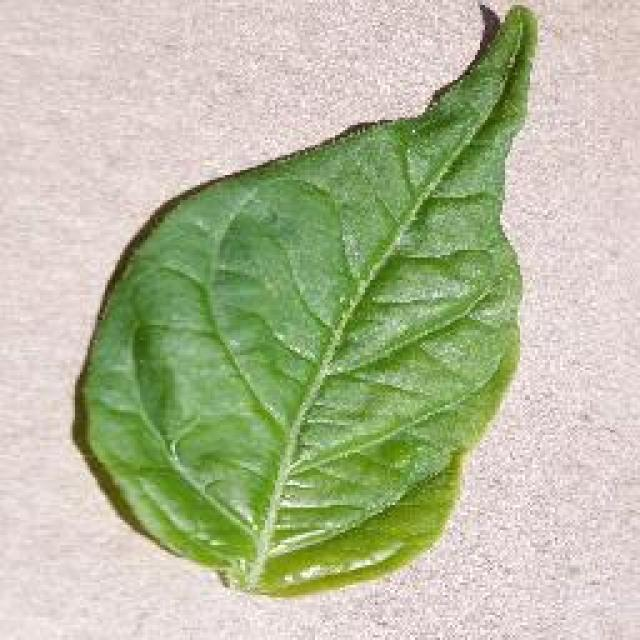Leaf: (41, 4, 564, 624)
